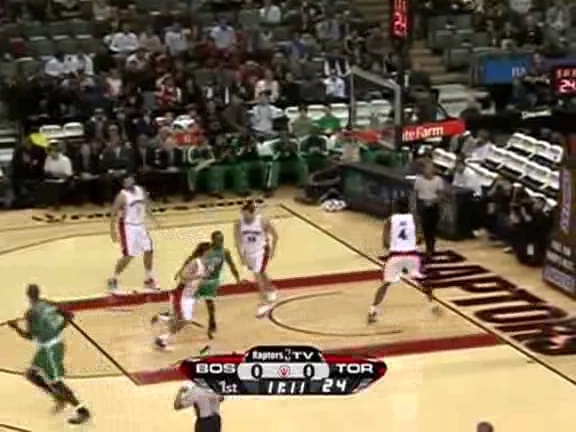person: (193, 230, 227, 311), (192, 230, 226, 311), (194, 230, 228, 311), (193, 229, 227, 310), (193, 231, 227, 312)
target_negative: (284, 157, 523, 234), (69, 265, 369, 312), (441, 3, 514, 186), (151, 166, 555, 182), (403, 240, 442, 372), (421, 413, 570, 426)
